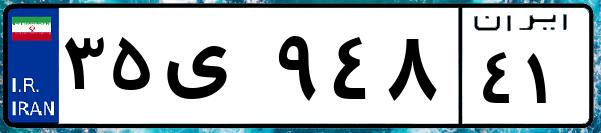1: (525, 38, 570, 115)
3: (57, 26, 110, 100)
4: (330, 28, 385, 110), (475, 38, 525, 113)
5: (110, 28, 158, 98)
8: (385, 28, 445, 110)
9: (270, 28, 330, 110)
ی: (158, 20, 270, 120)
